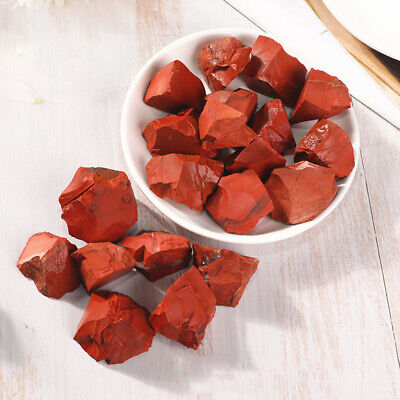Red_Jasper: (157, 56, 319, 213), (72, 289, 159, 367), (59, 165, 138, 246)
